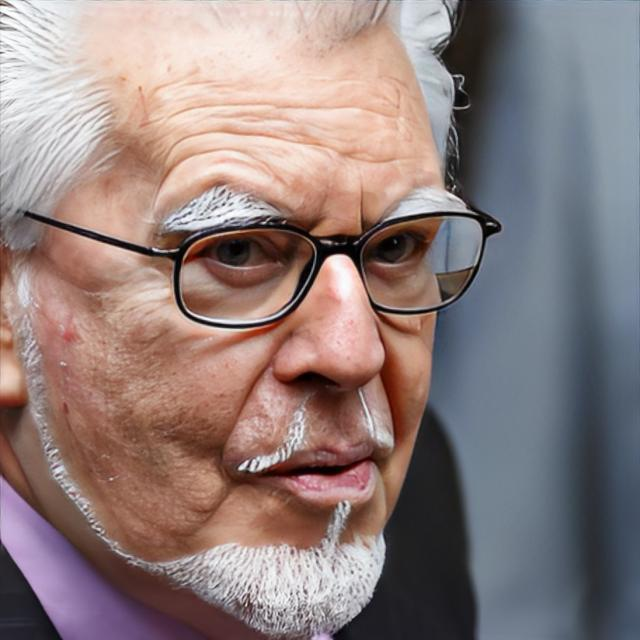anger: (51, 109, 442, 592)
